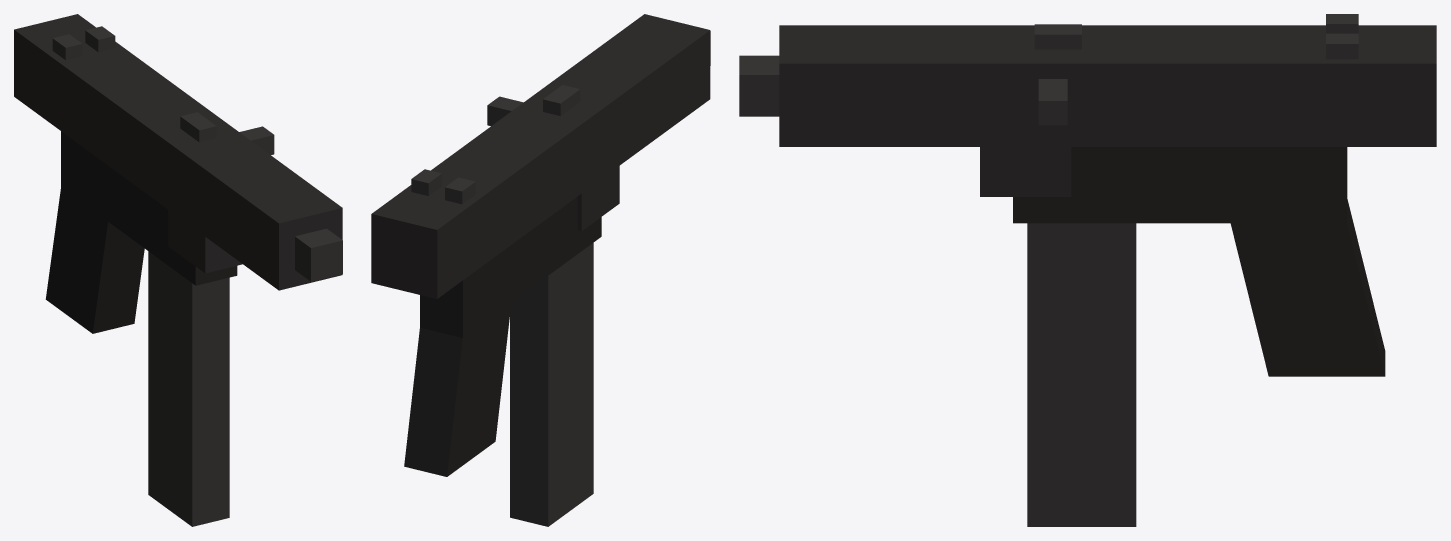
File: SMG9.FBX
The picture shows the model from 3 angles, left to right: view 1: azimuth 30°, elevation 25°; view 2: azimuth 150°, elevation 25°; view 3: azimuth 270°, elevation 25°; orthographic projection. The views are drawn at different scales.
Visible parts, largest first — view 1: SMG9, SMG9Mag; view 2: SMG9, SMG9Mag; view 3: SMG9, SMG9Mag.
Part boxes in pixels (bbox=[...]): SMG9: bbox=[14, 14, 342, 333]; SMG9Mag: bbox=[148, 251, 229, 526]; SMG9: bbox=[371, 14, 710, 476]; SMG9Mag: bbox=[510, 243, 593, 526]; SMG9: bbox=[739, 14, 1436, 376]; SMG9Mag: bbox=[1027, 223, 1136, 526].
Bounding box in the file's own units: 14.67 × 71.41 × 55.01.
